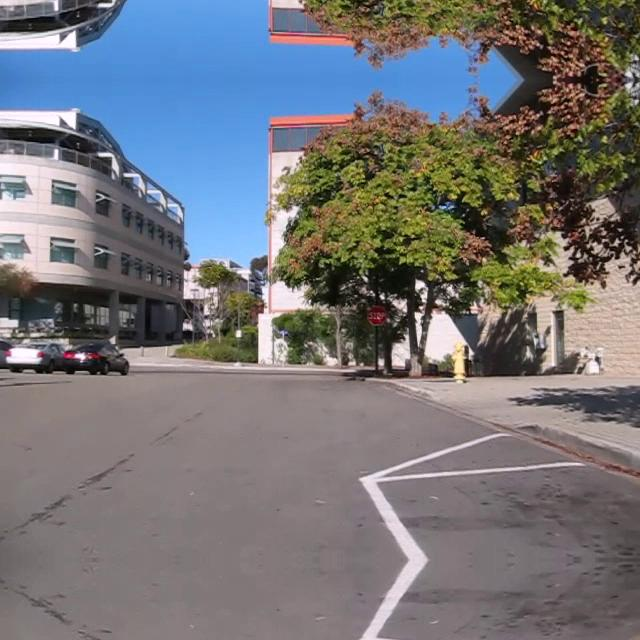stop: (366, 303, 388, 325)
